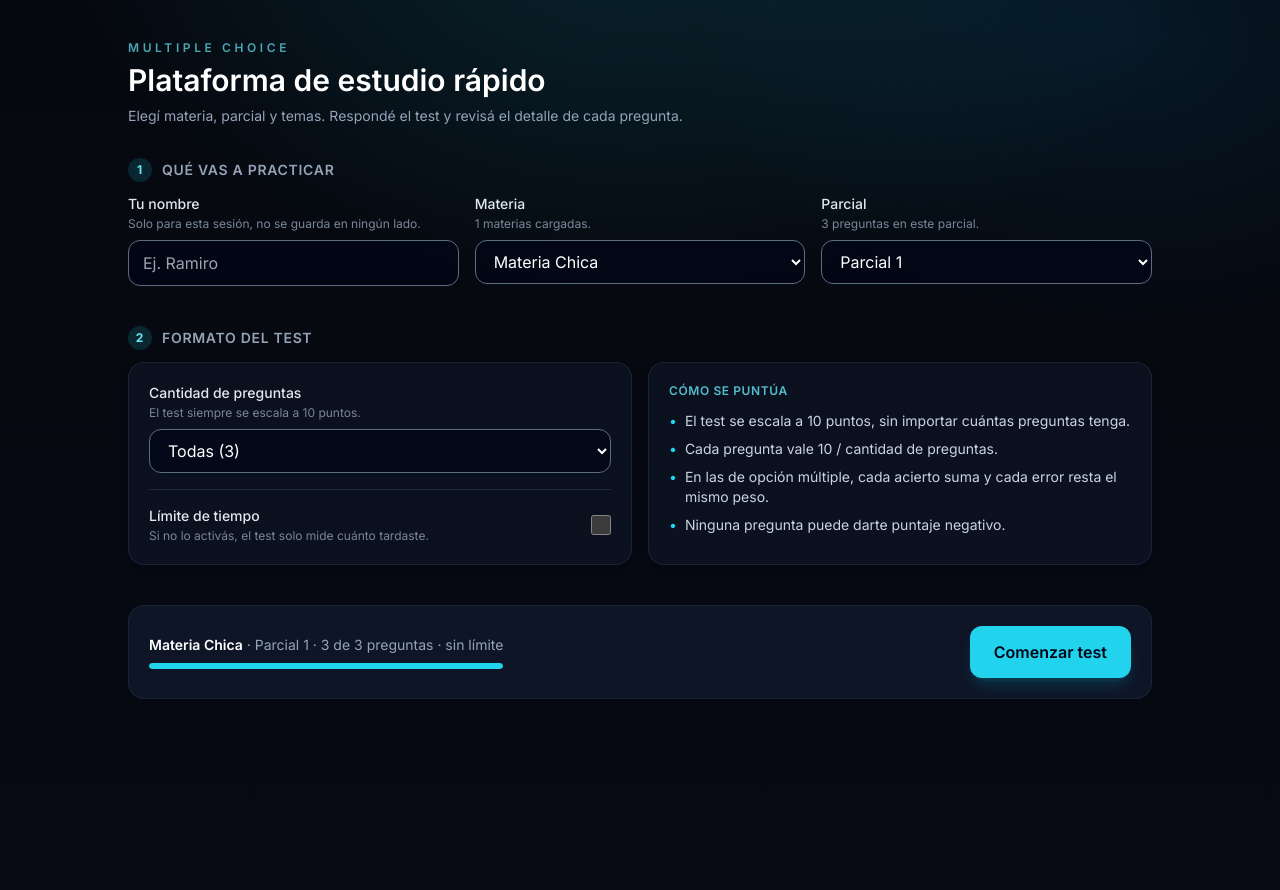
Test case: TestApp · durante el test › permite limpiar una respuesta y volver a dejarla sin responder
The image size is (1280, 890).
Click the button "Comenzar test": (1050, 652) [970,626,1131,678]
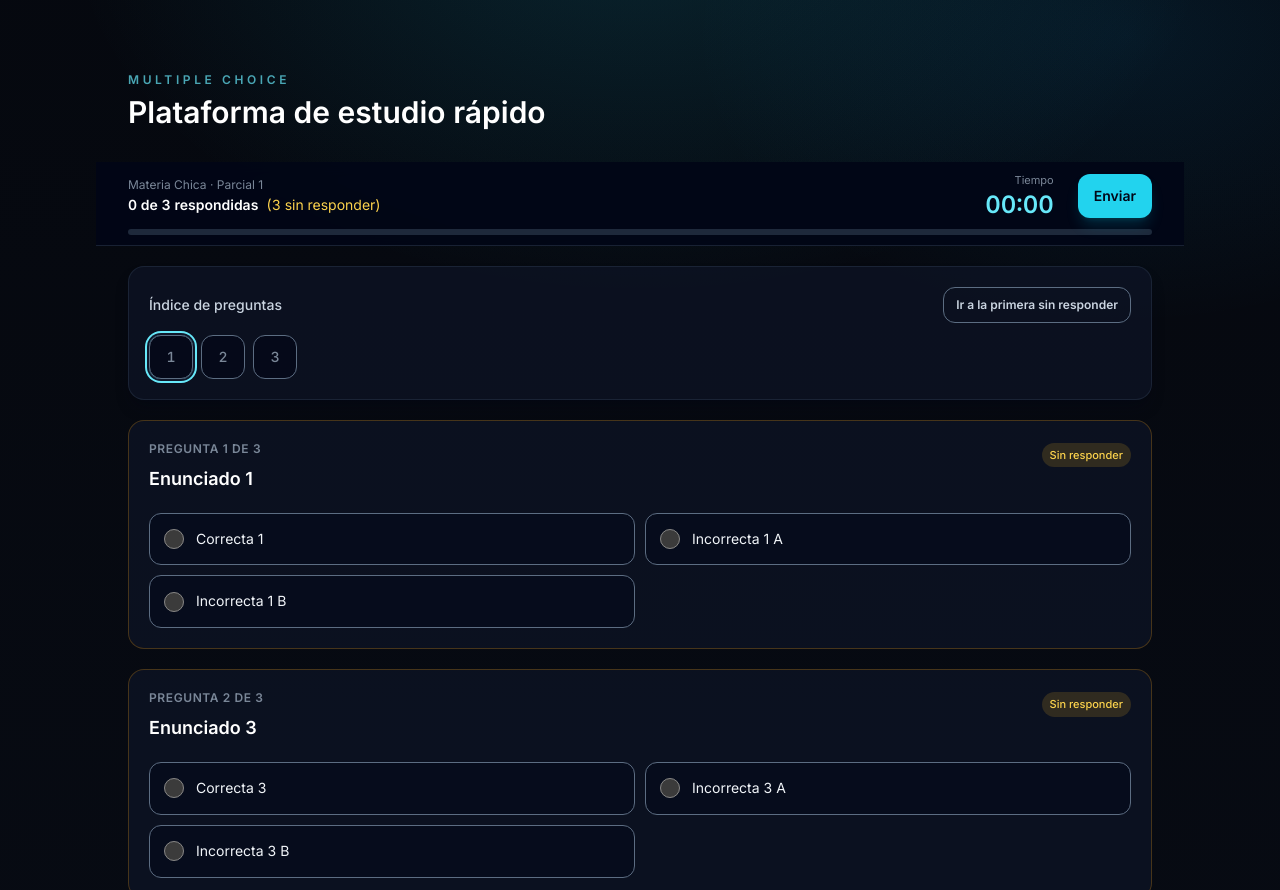
Click the radio button labelled "Correcta 1": (174, 539) [164,529,184,549]
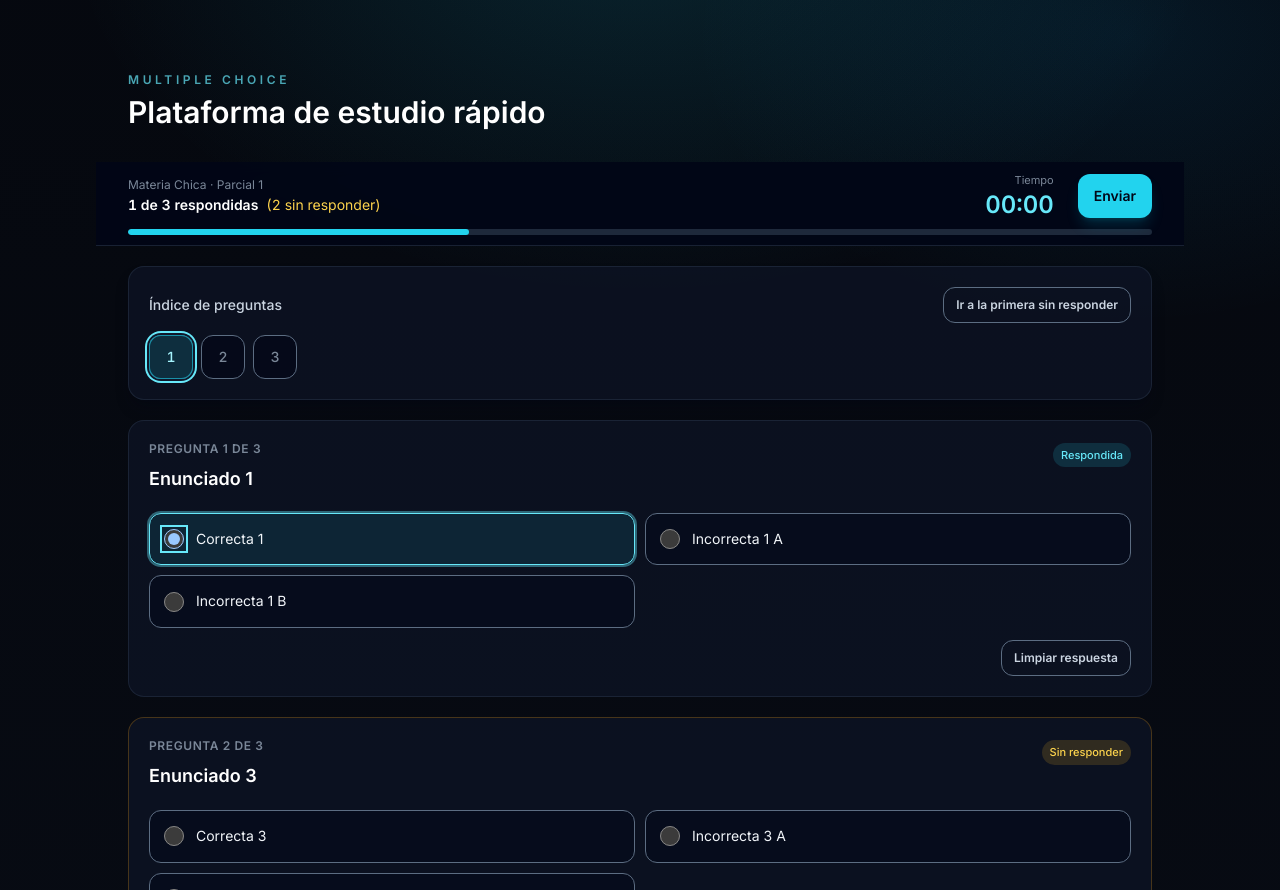
Click the button "Limpiar respuesta": (1066, 658) [1001,640,1131,676]
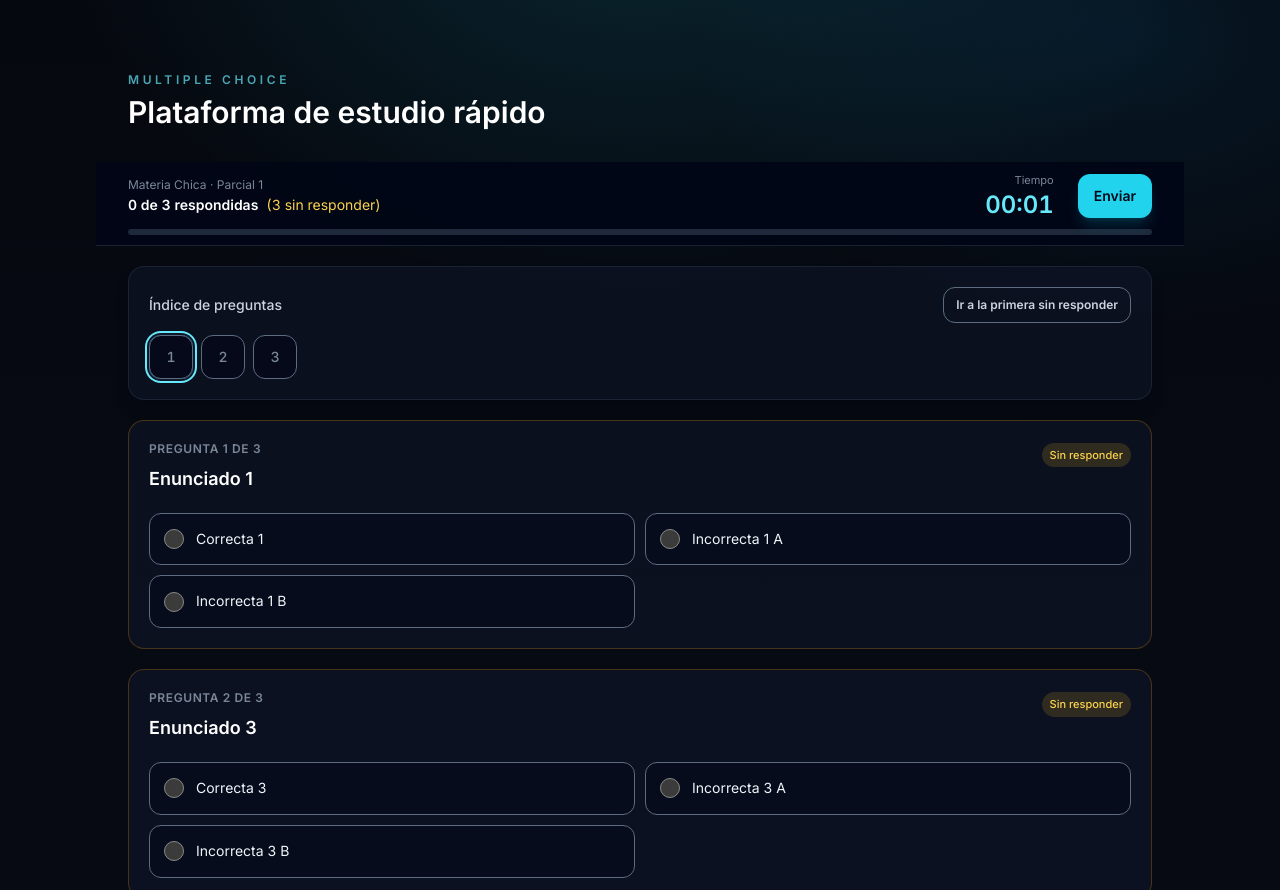
Expected: the text "0 de 3 respondidas(3 sin responder)" is shown, [128,196,381,213]
Expected: the 1st text "Sin responder" is shown, [1042,442,1131,467]
